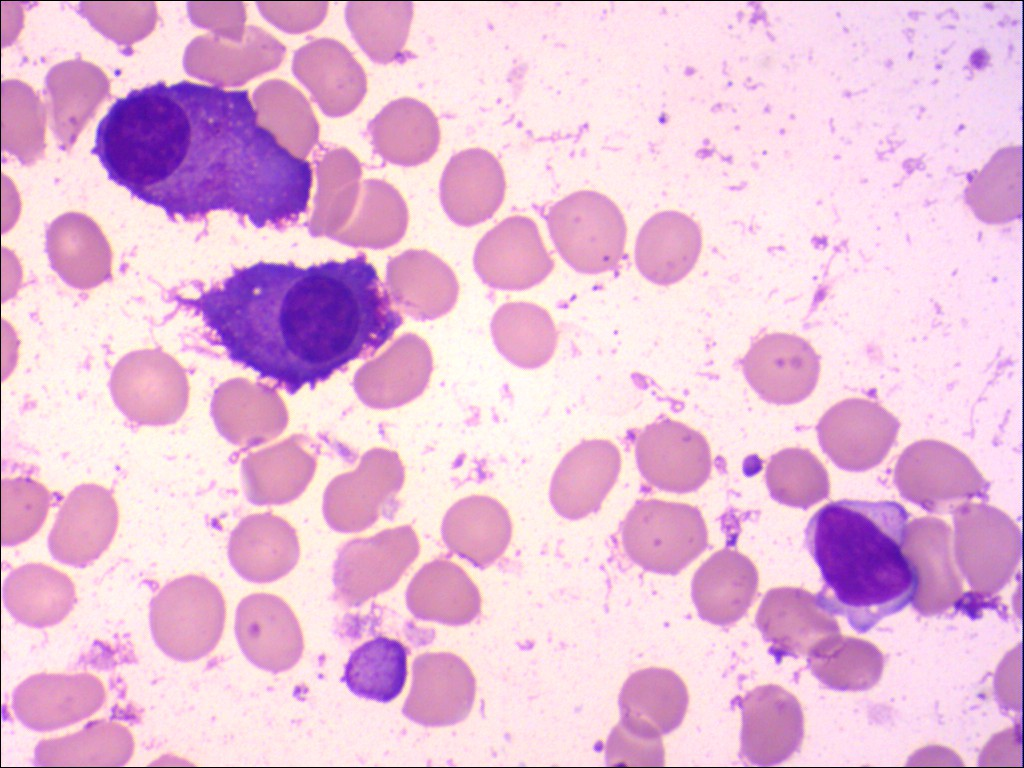32: (800, 496, 922, 639)
51: (88, 77, 314, 234), (190, 253, 410, 399)
x: (339, 635, 411, 706)
